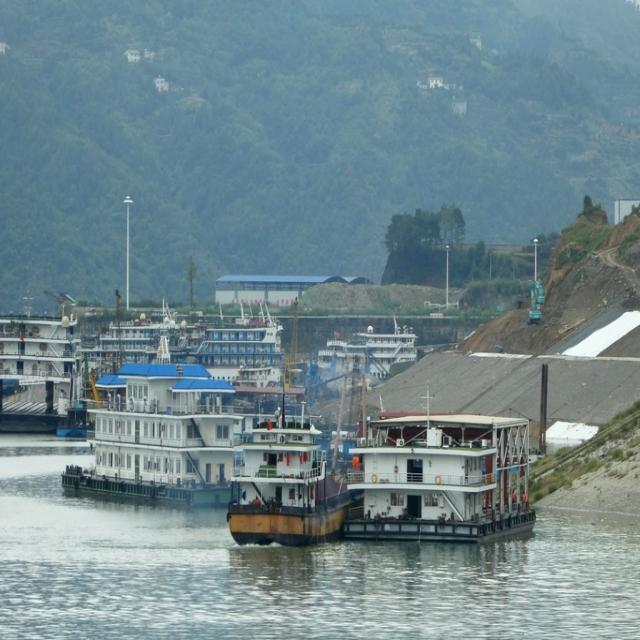boat: (60, 354, 238, 512), (359, 402, 523, 554), (225, 402, 347, 552)
